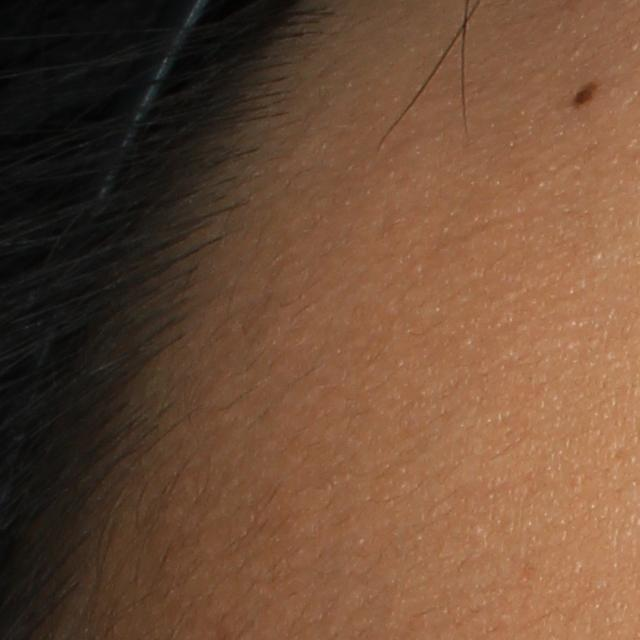nevus: (568, 75, 602, 106)
